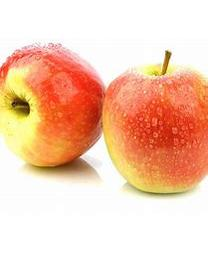apple: (101, 61, 207, 193), (0, 41, 105, 167)
